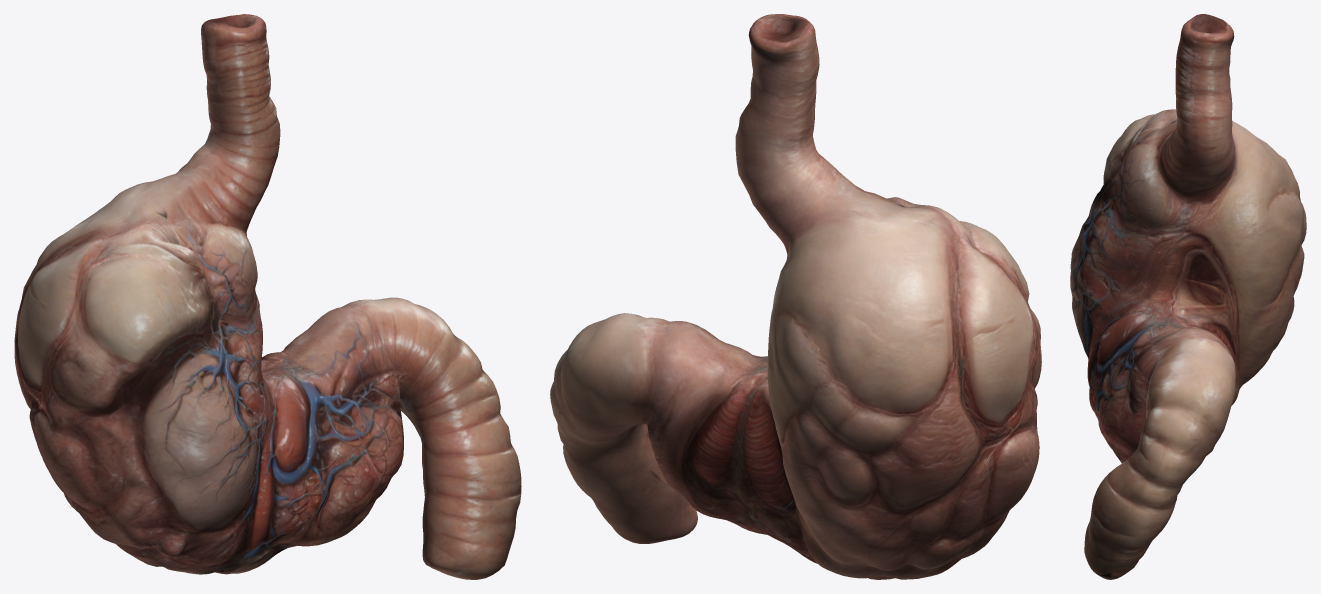
File: stomach_-_organ.glb
3 renders of one model, left to right at view 1: azimuth 30°, elevation 25°; view 2: azimuth 150°, elevation 25°; view 3: azimuth 270°, elevation 25°, orthographic. The views are drawn at different scales.
Visible parts, largest first — view 1: Mesh1_Mesh1.114; view 2: Mesh1_Mesh1.114; view 3: Mesh1_Mesh1.114.
Boxes of the visible parts, left/top/right/bottom form: Mesh1_Mesh1.114: left=14, top=14, right=521, bottom=579; Mesh1_Mesh1.114: left=550, top=14, right=1041, bottom=579; Mesh1_Mesh1.114: left=1070, top=14, right=1306, bottom=579.
Bounding box in the file's own units: 1.66 × 1.99 × 0.8961.
Materials: 1 (1 with a texture image).
